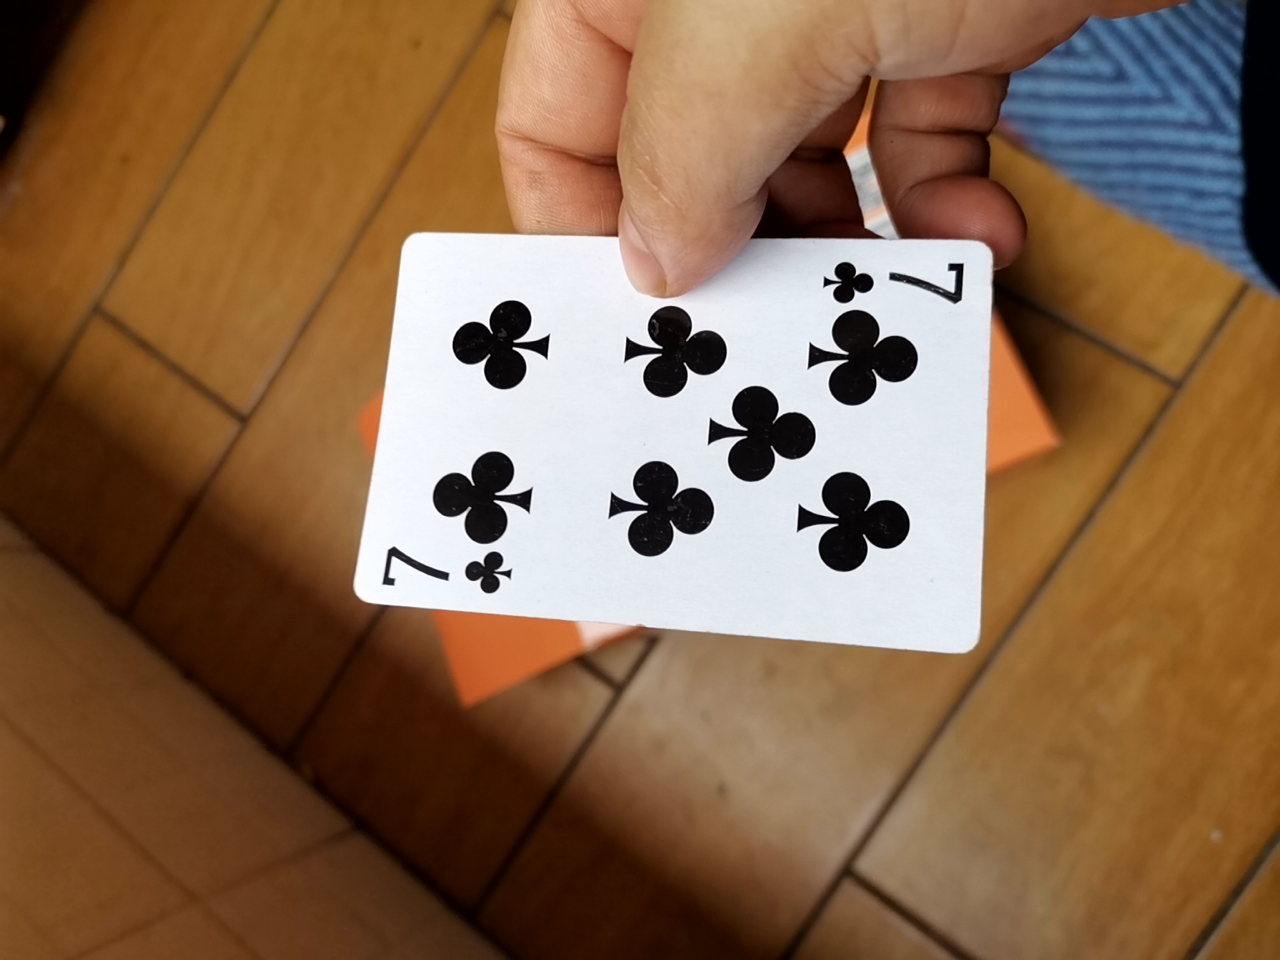mh 7: (340, 232, 1004, 664)
